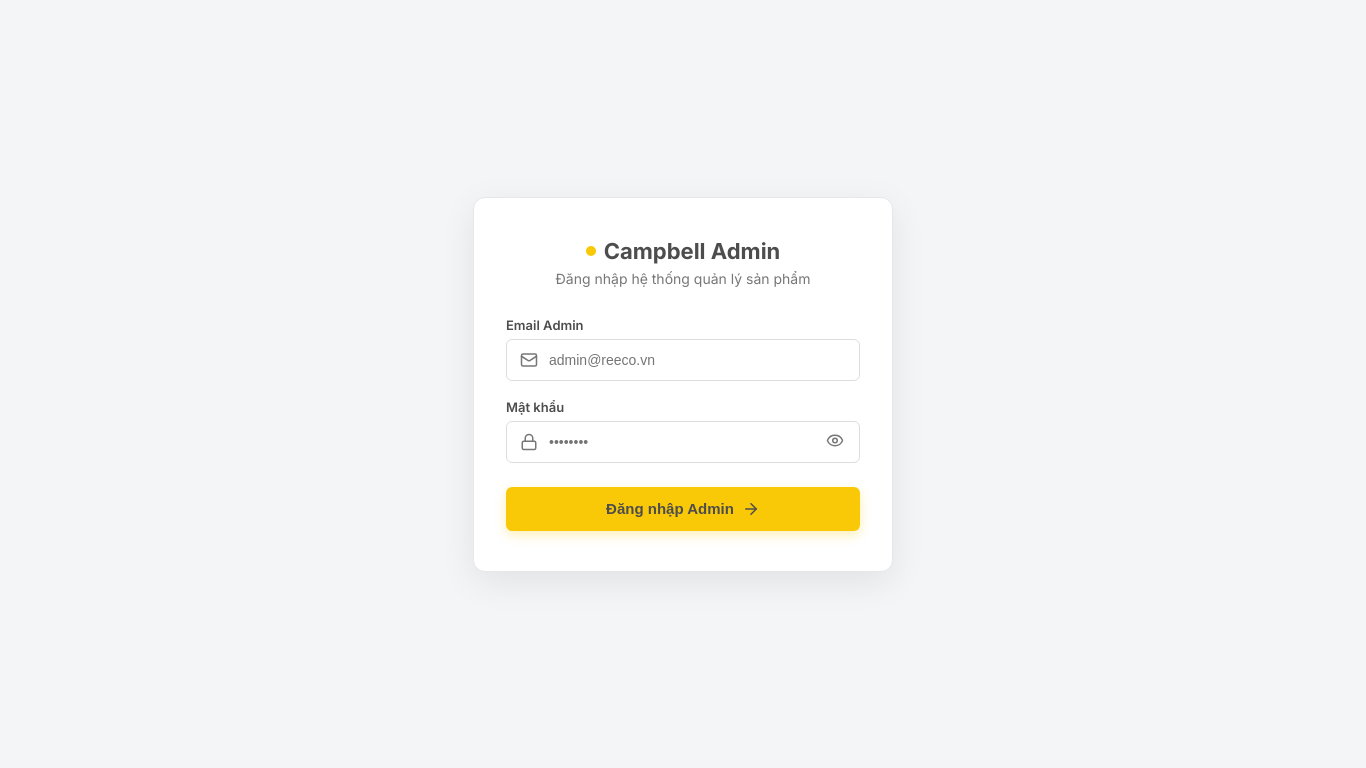
Scenario: routing and auth › a made-up account is refused
Type "random@example.com" into the field with placeholder "admin@reeco.vn" at (683, 360), box [506,338,860,380]
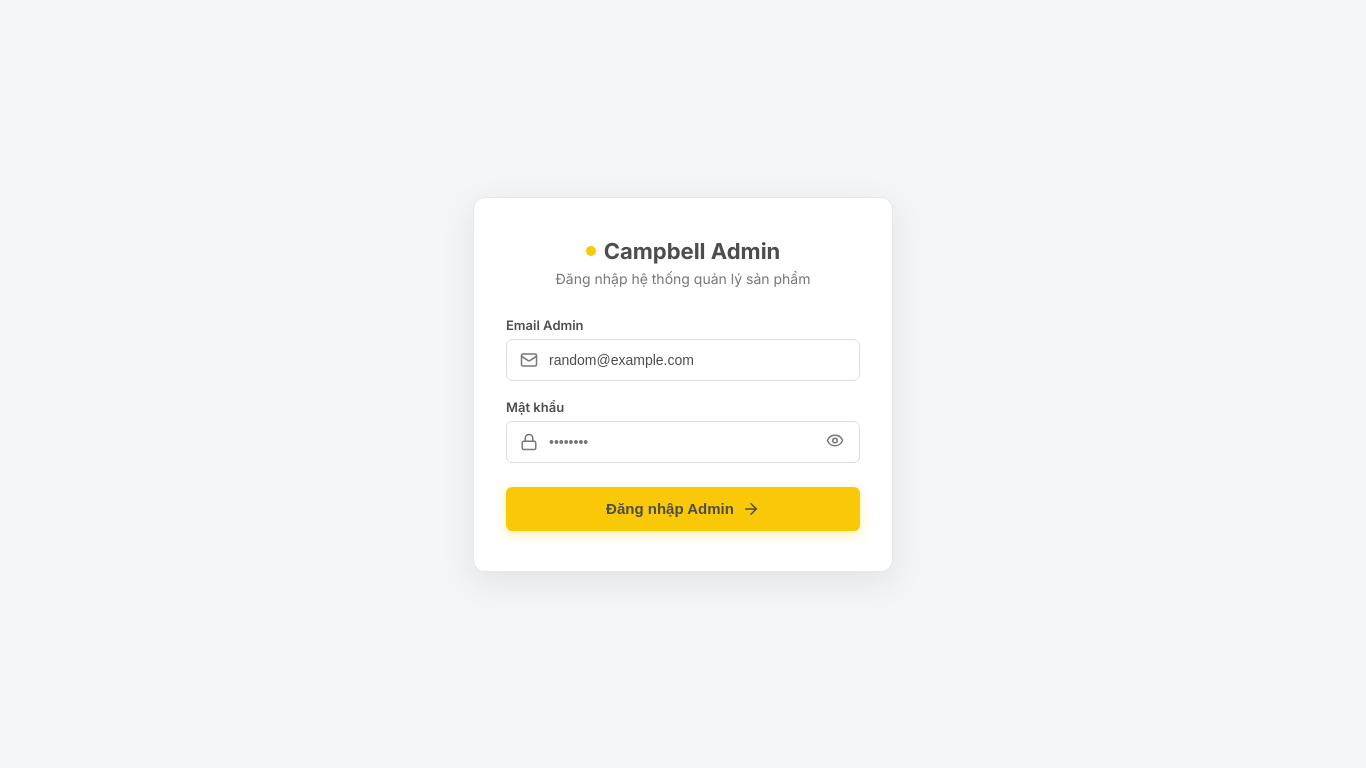
Type "whatever" into the password field with placeholder "••••••••" at (683, 442), box [506,420,860,462]
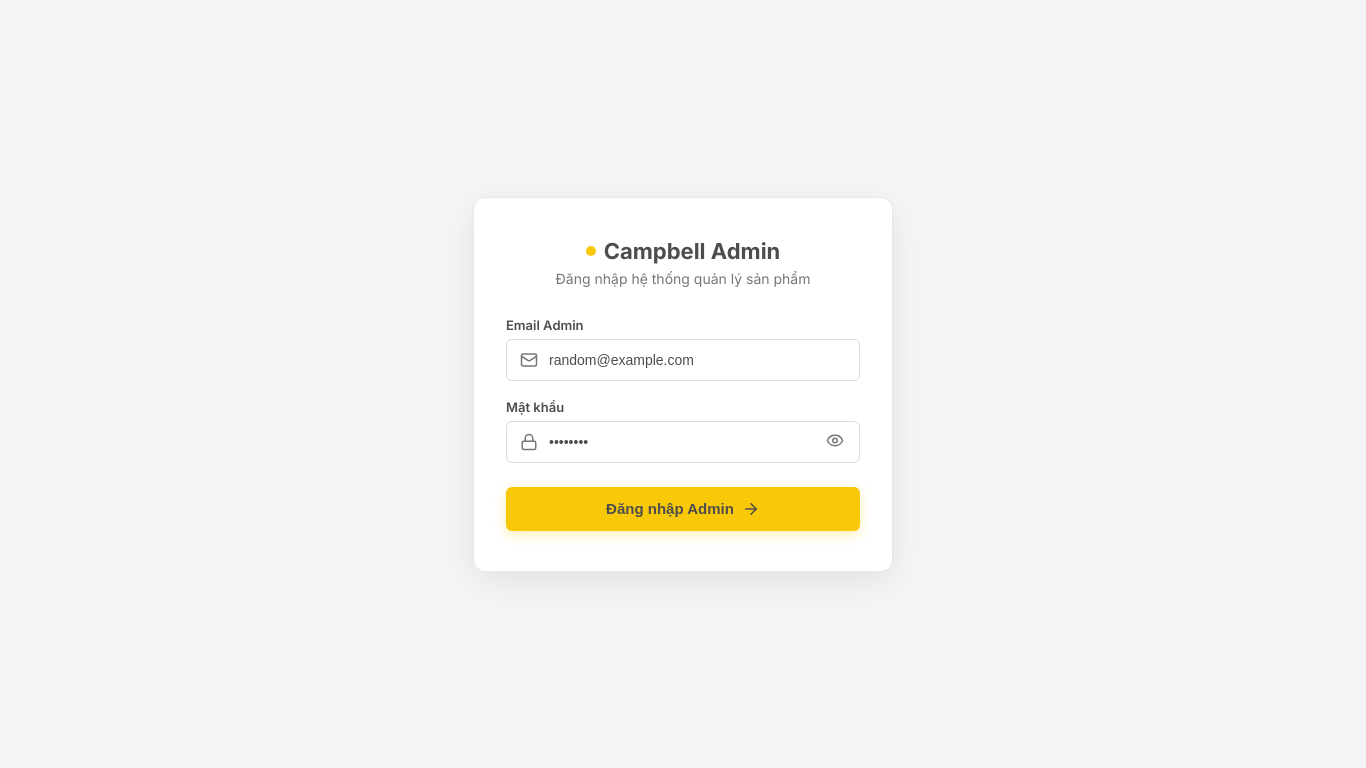
Submit the form, box [506,316,860,530]
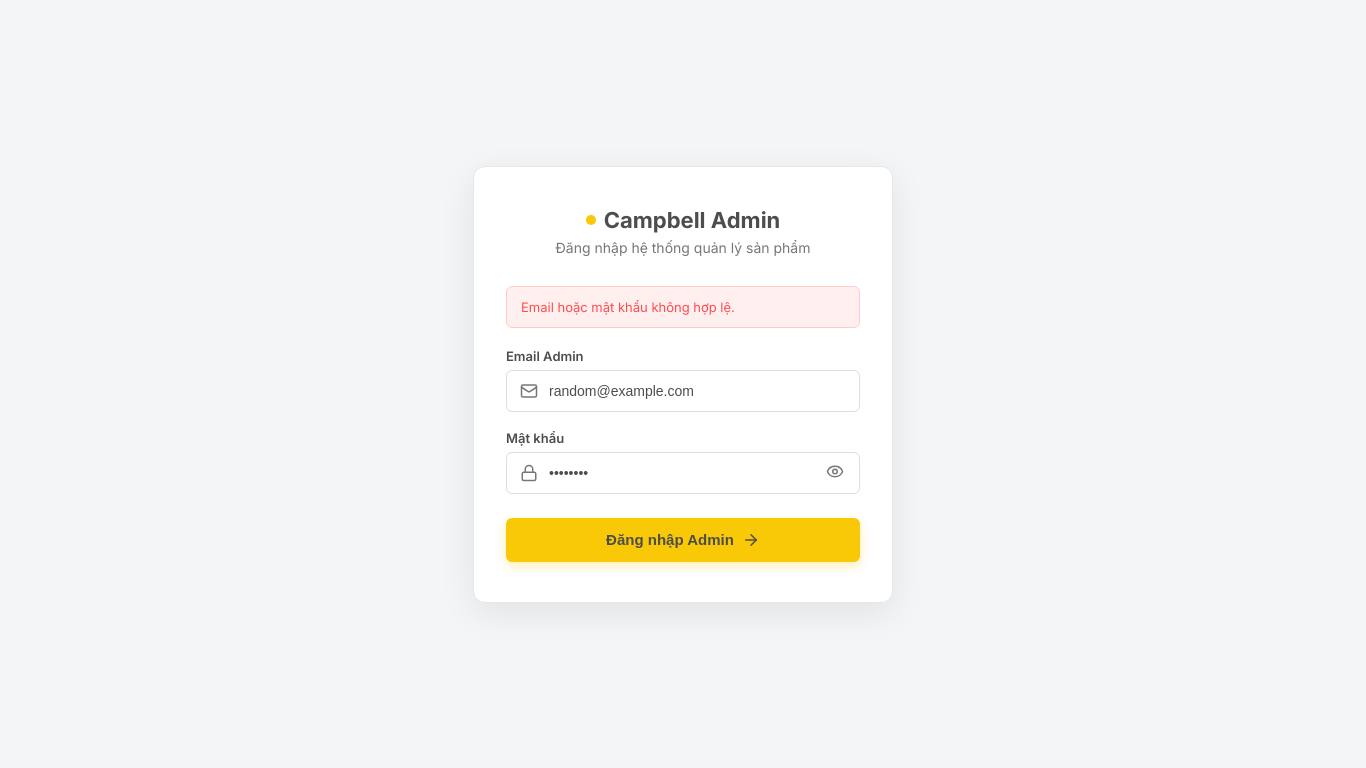
Check: the text "Email hoặc mật khẩu không hợp lệ." is shown, box [506,286,860,328]
